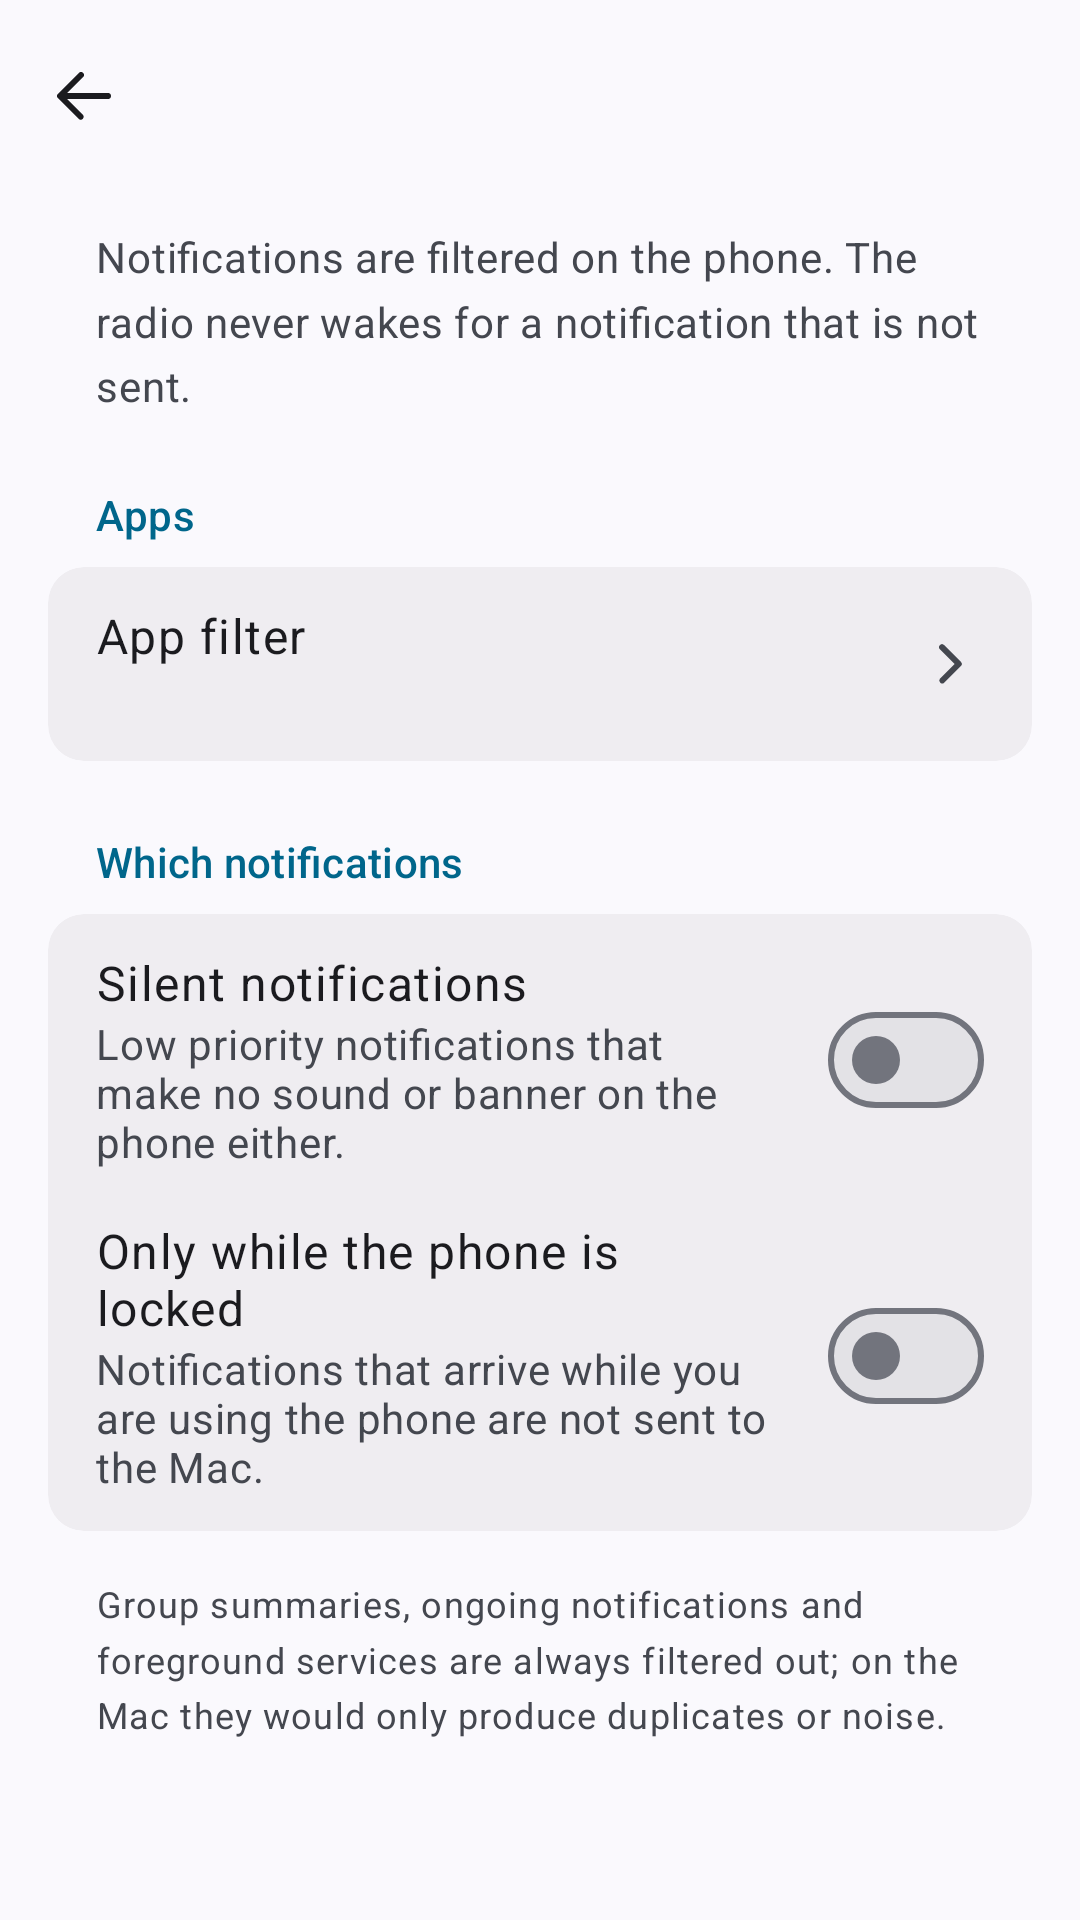

Where to tap for icons on this 1080 x 1920 app screen, as point (x, y):
Back: point (84, 96)
chevron: point (950, 664)
